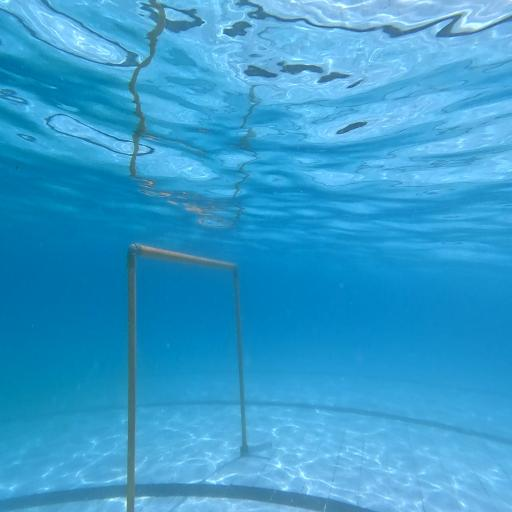gate: (127, 242, 272, 512)
